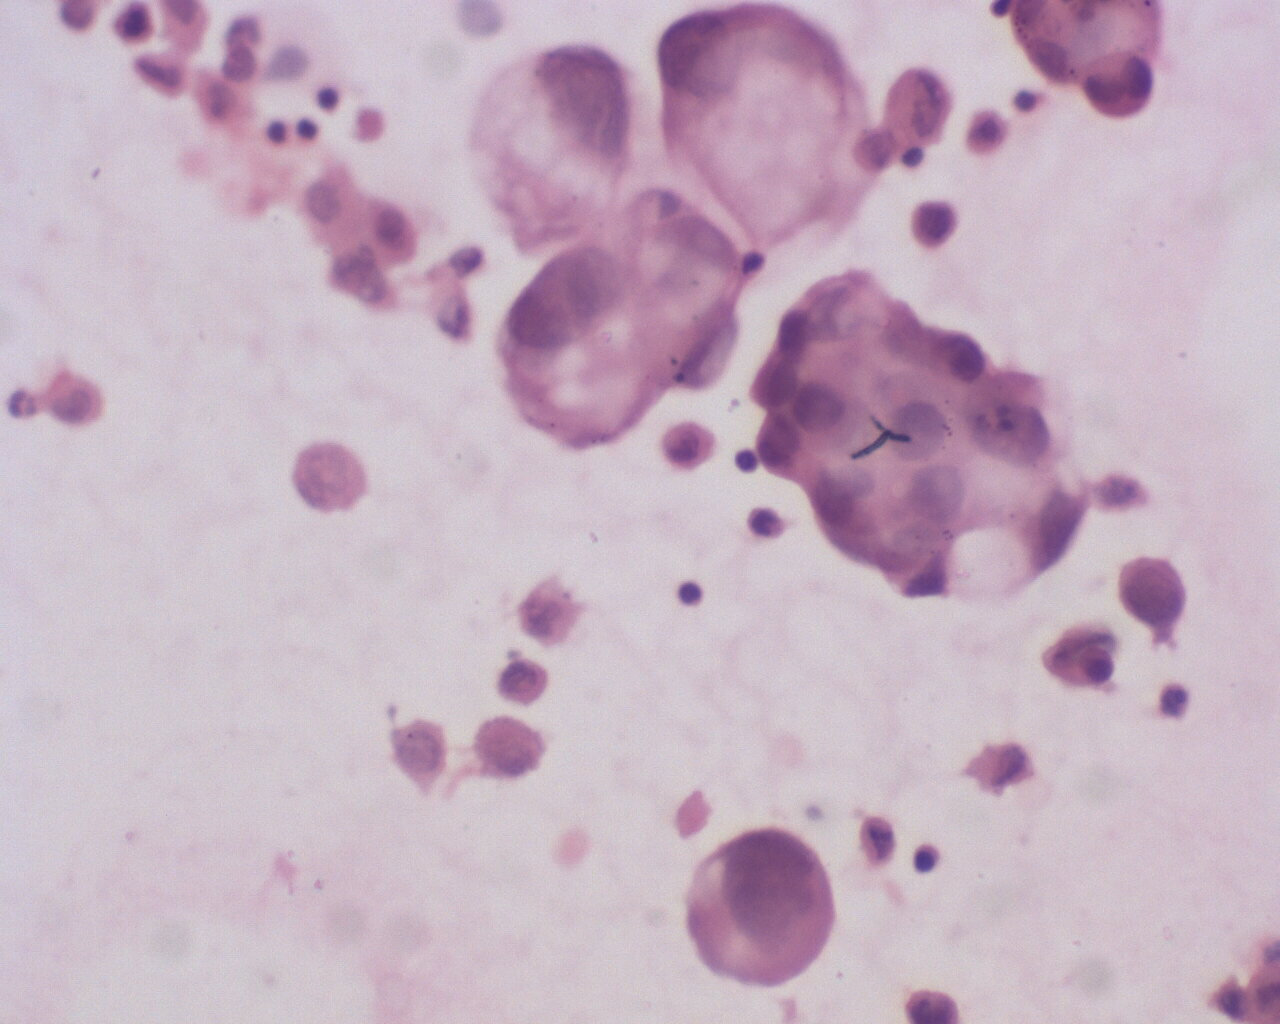ab: (651, 4, 871, 248), (466, 42, 641, 253), (684, 829, 836, 993), (1115, 553, 1191, 643)
lymph: (672, 572, 707, 612)
meso: (358, 195, 426, 274)
neutro: (1150, 679, 1196, 722), (746, 503, 784, 543)
